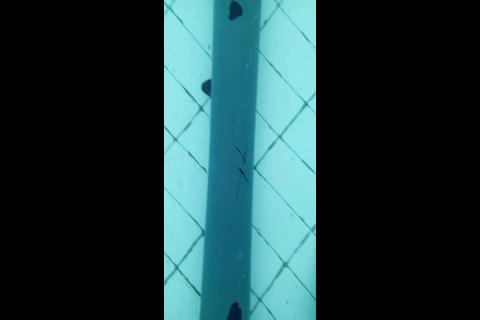kebocoran: (225, 300, 244, 320), (227, 0, 244, 21)
keretakan: (234, 142, 250, 199)
